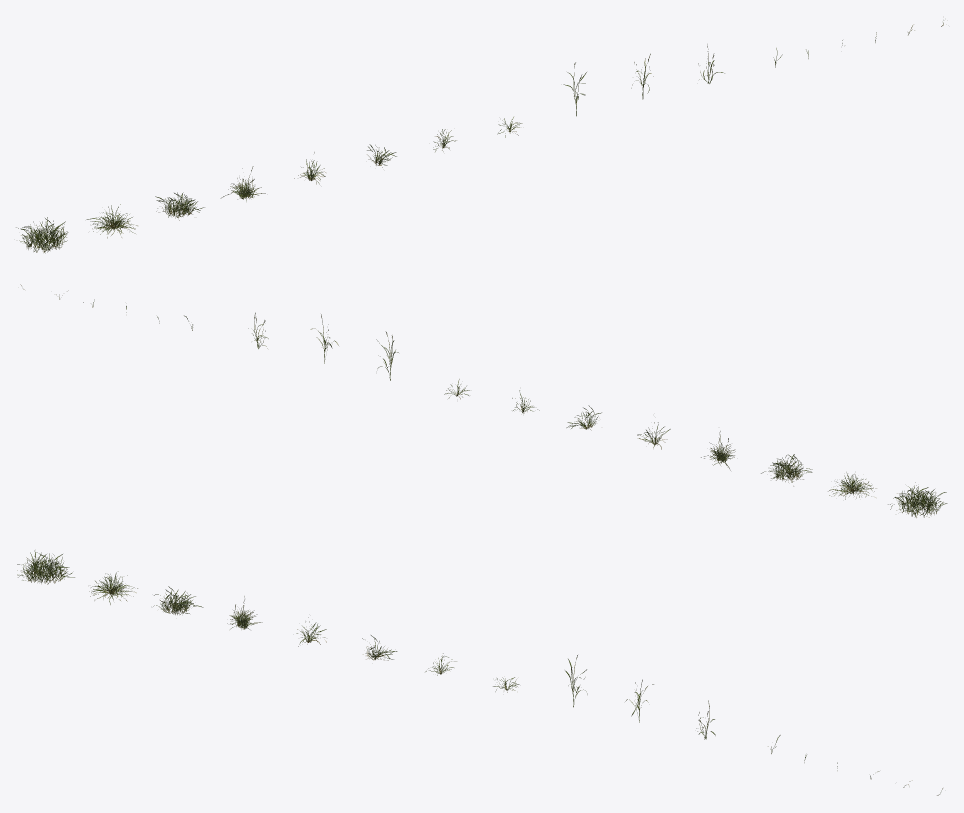
File: grass_clumps.glb
The picture shows the model from 3 angles, top to bottom: view 1: azimuth 30°, elevation 25°; view 2: azimuth 150°, elevation 25°; view 3: azimuth 330°, elevation 25°; orthographic projection.
Parts seen in each view (by area): view 1: grass_medium_01_large_a_mesh, grass_medium_01_large_c_mesh, grass_medium_01_large_b_mesh; view 2: grass_medium_01_large_a_mesh, grass_medium_01_large_c_mesh; view 3: grass_medium_01_large_a_mesh, grass_medium_01_large_c_mesh.
Boxes of the visible parts, bbox=[...] form: grass_medium_01_large_a_mesh: bbox=[16, 217, 68, 253]; grass_medium_01_large_c_mesh: bbox=[155, 192, 204, 220]; grass_medium_01_large_b_mesh: bbox=[86, 204, 137, 238]; grass_medium_01_large_a_mesh: bbox=[888, 482, 947, 517]; grass_medium_01_large_c_mesh: bbox=[761, 454, 812, 486]; grass_medium_01_large_a_mesh: bbox=[17, 550, 74, 584]; grass_medium_01_large_c_mesh: bbox=[153, 586, 203, 614].
Bounding box in the file's own units: 5.6 × 0.3426 × 0.3266.
1 material, 1 textured.
